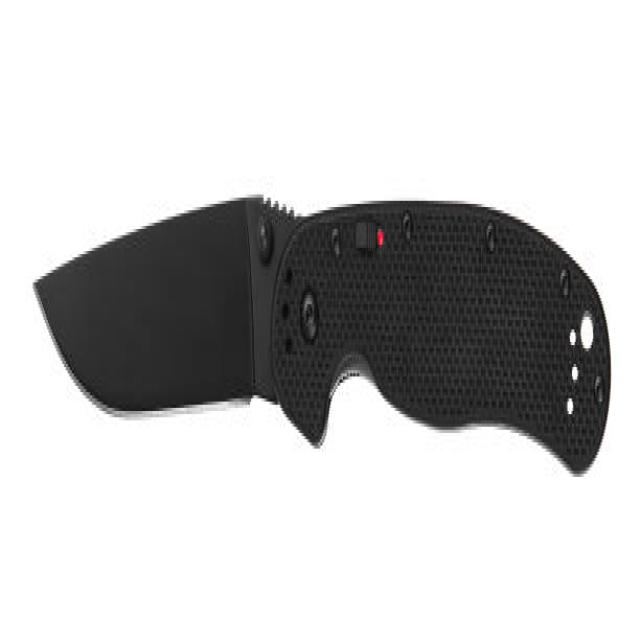knife: (24, 165, 614, 499)
